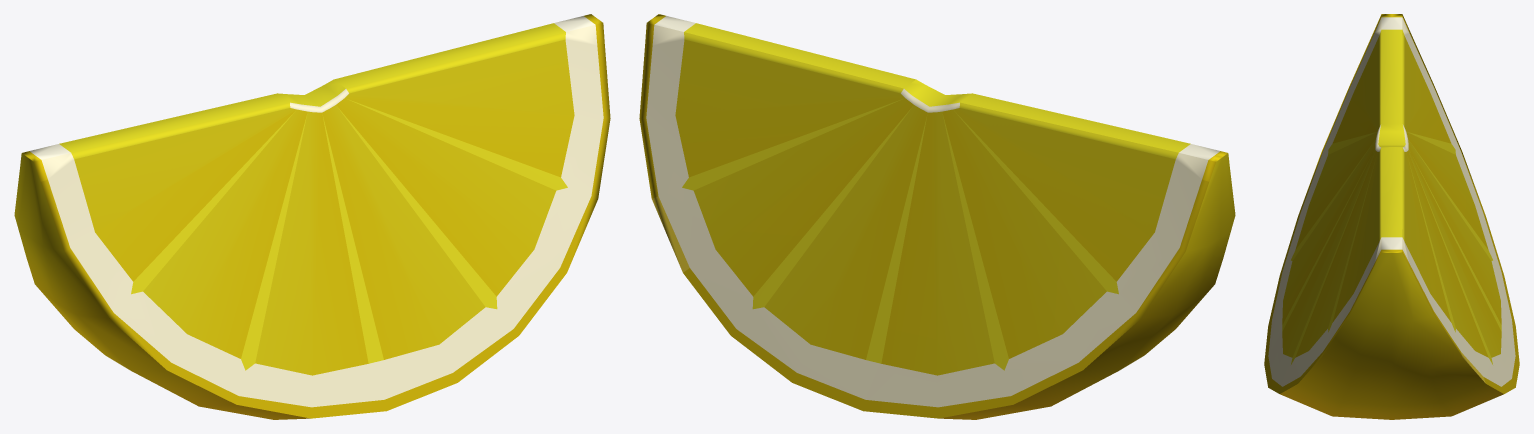
Rendered from SliceOfLemon.fbx.
3 views of the same model, side by side, from view 1: azimuth 30°, elevation 25°; view 2: azimuth 150°, elevation 25°; view 3: azimuth 270°, elevation 25° (orthographic). The views are drawn at different scales.
Parts seen in each view (by area): view 1: SliceOfLemon; view 2: SliceOfLemon; view 3: SliceOfLemon.
Boxes of the visible parts, x1,y1,x2,y2 form: SliceOfLemon: (14, 14, 610, 419); SliceOfLemon: (639, 14, 1235, 419); SliceOfLemon: (1264, 14, 1519, 419).
Size of the model in its own units: 0.6581 by 0.3305 by 0.2976.
